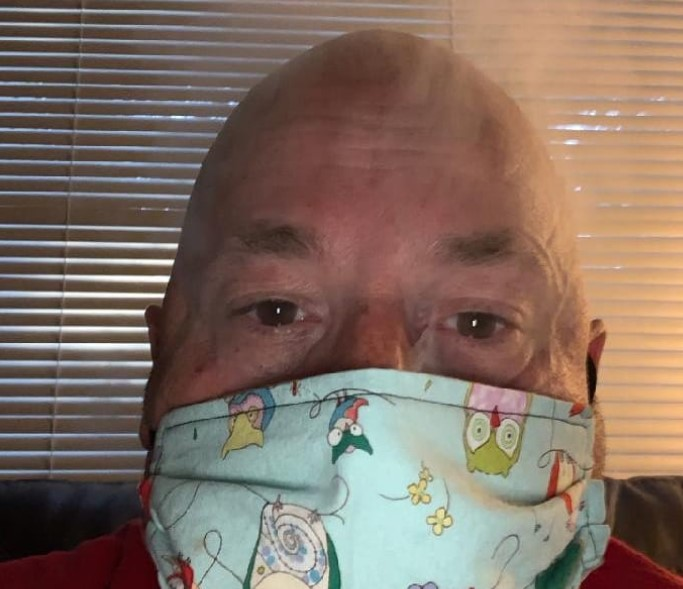face_with_mask: (142, 27, 613, 587)
